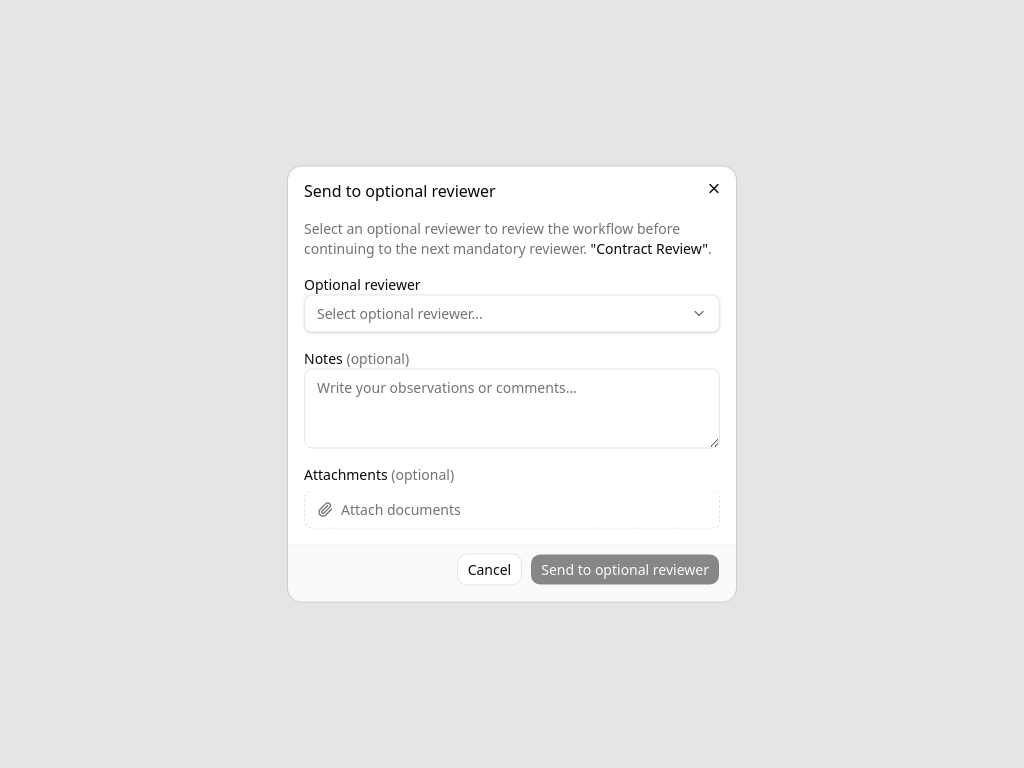
Test: ForwardStepDialog — optional reviewer selector › falls back to orgUsersMap, then the raw ID, when the backend could not resolve a name
Click the button "Select optional reviewer..." at (400, 313), box [304, 294, 720, 332]
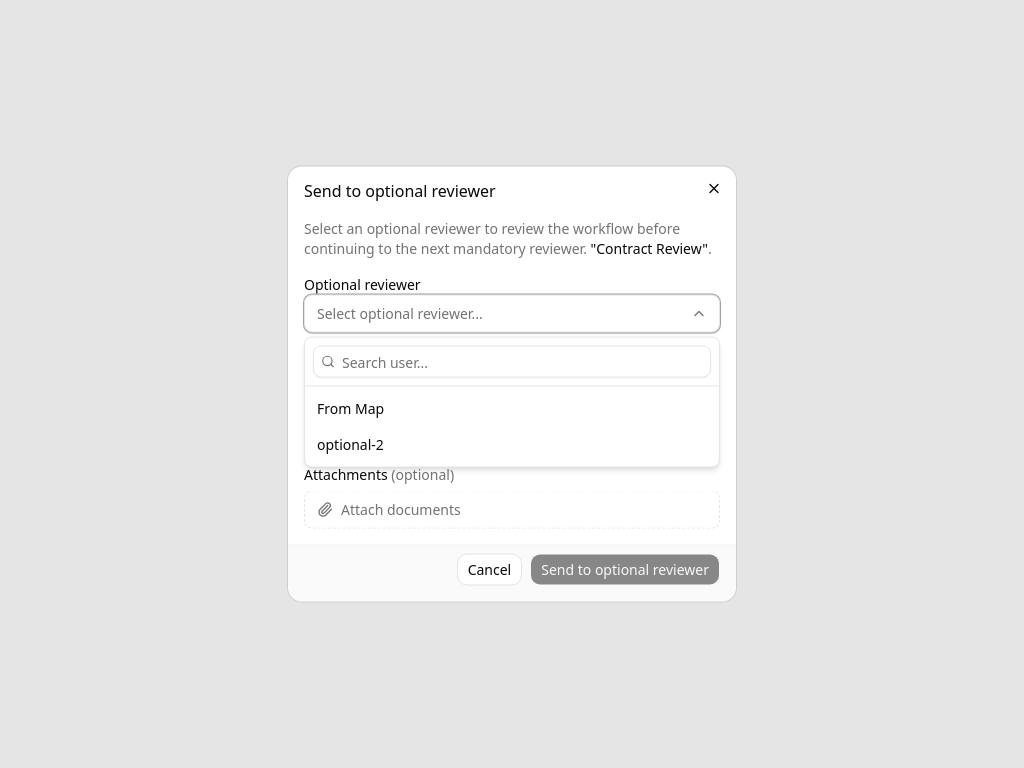
Check: the text "From Map" is shown, box [317, 398, 384, 418]
Check: the text "optional-2" is shown, box [317, 434, 384, 454]
